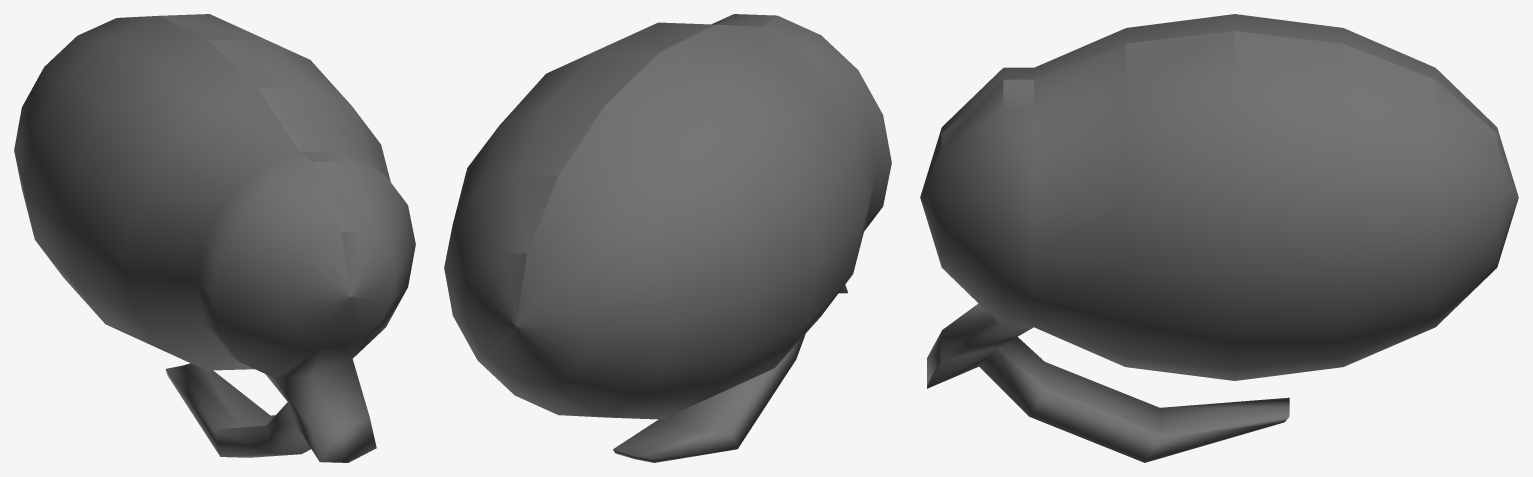
File: grenade.fbx
The picture shows the model from 3 angles, left to right: view 1: azimuth 30°, elevation 25°; view 2: azimuth 150°, elevation 25°; view 3: azimuth 270°, elevation 25°; orthographic projection. The views are drawn at different scales.
Parts seen in each view (by area): view 1: Mount; view 2: Mount; view 3: Mount.
Part boxes in pixels (<box>): Mount: <box>14,14,415,462</box>; Mount: <box>444,14,891,462</box>; Mount: <box>920,14,1518,462</box>.
Size of the model in its own units: 1.83 by 2.34 by 2.98.
1 material, 1 textured.
